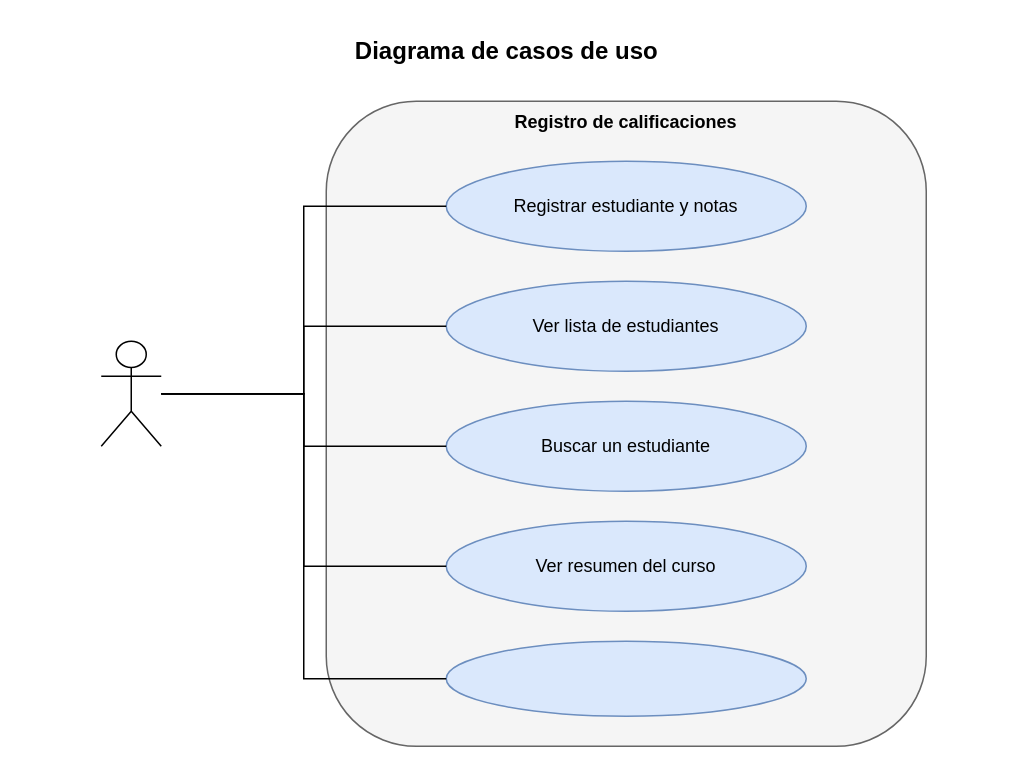
This 1011x773 diagram has some shape labels left out. Here are the shapes that lost their labels. From the top down, the centre of each, then its label:
At point (130, 393): "Docente".
At point (625, 678): "Limpiar los campos".
